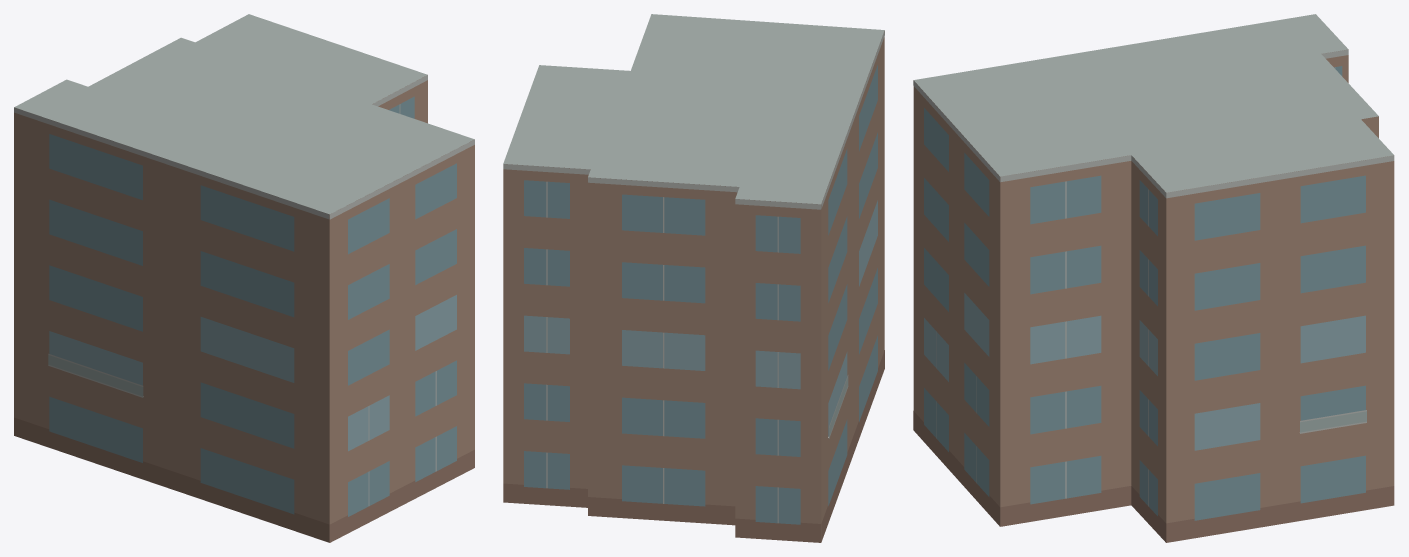
Rendered from survey-upis-32749896.glb.
3 renders of one model, left to right at view 1: azimuth 30°, elevation 25°; view 2: azimuth 150°, elevation 25°; view 3: azimuth 270°, elevation 25°, orthographic. The views are drawn at different scales.
Visible parts, largest first — view 1: survey-upis-32749896.tmp; view 2: survey-upis-32749896.tmp; view 3: survey-upis-32749896.tmp.
Part boxes in pixels (x1,y1,x2,y2): survey-upis-32749896.tmp: (14, 14, 474, 542); survey-upis-32749896.tmp: (503, 14, 884, 542); survey-upis-32749896.tmp: (913, 14, 1394, 542).
Size of the model in its own units: 16.71 by 15.25 by 18.99.
